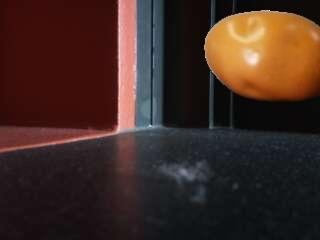Potato: (203, 8, 320, 101)
